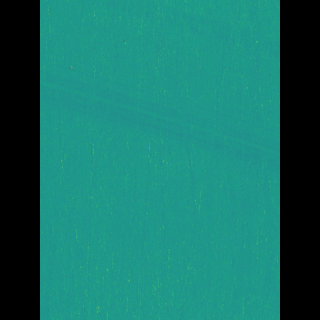Loch: (68, 52, 250, 180), (93, 0, 248, 62)
